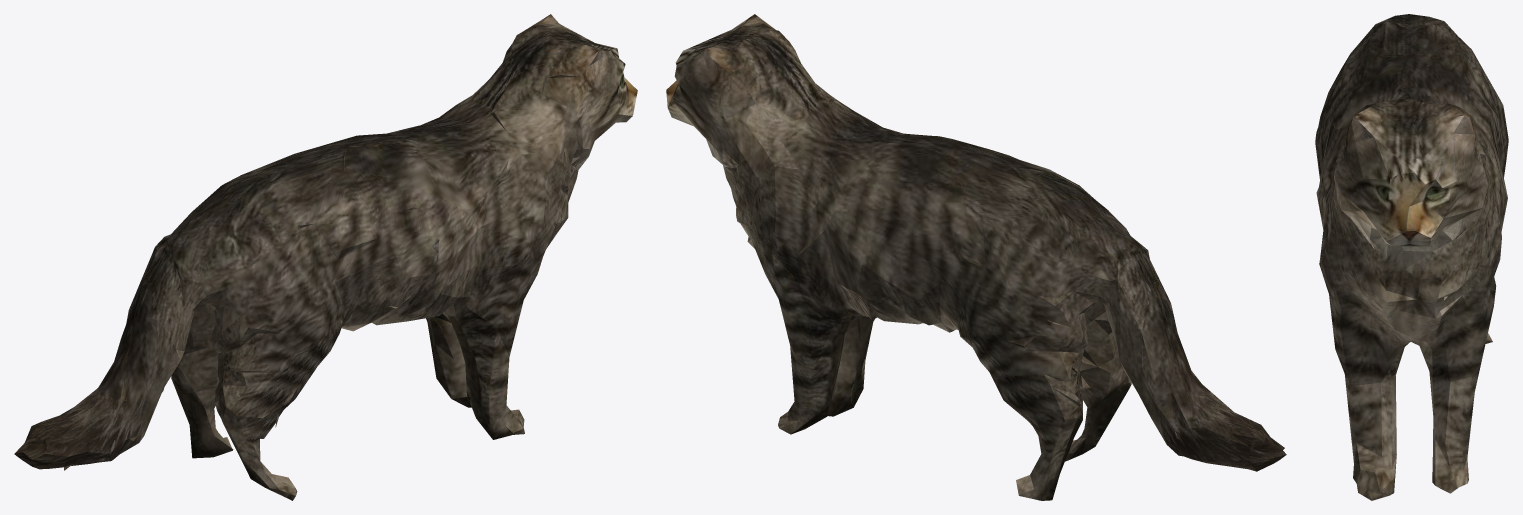
The model's file is CHURCHCCAT-lo.glb.
The picture shows the model from 3 angles, left to right: view 1: azimuth 30°, elevation 25°; view 2: azimuth 150°, elevation 25°; view 3: azimuth 270°, elevation 25°; orthographic projection. The views are drawn at different scales.
Visible parts, largest first — view 1: output_unwrapped; view 2: output_unwrapped; view 3: output_unwrapped.
Boxes of the visible parts, x1=… form: output_unwrapped: x1=14, y1=14, x2=637, y2=500; output_unwrapped: x1=666, y1=14, x2=1286, y2=500; output_unwrapped: x1=1315, y1=14, x2=1508, y2=500.
Bounding box in the file's own units: 1.74 × 1 × 0.4132.
1 material, 1 textured.
